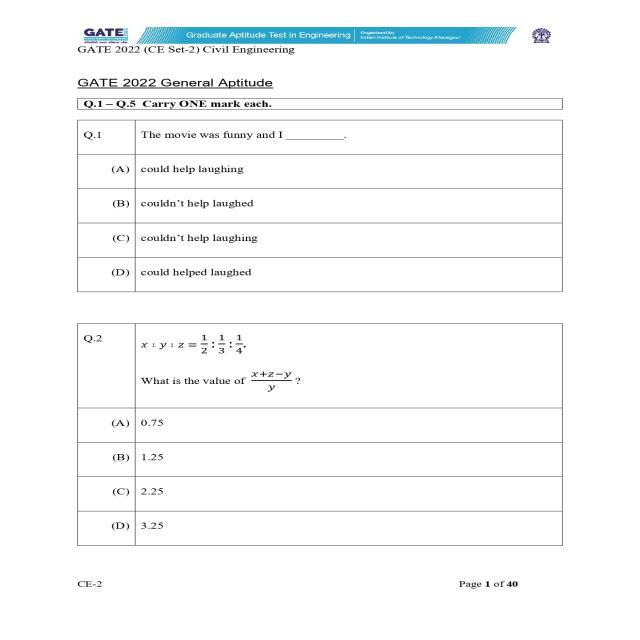Answer_Block: (75, 408, 558, 542), (76, 157, 558, 291)
Question_Answer_Block: (74, 326, 560, 544), (74, 121, 560, 292)
Question_Block: (74, 324, 556, 407), (77, 122, 560, 156)
Question_Paper_Area: (76, 78, 561, 550)
